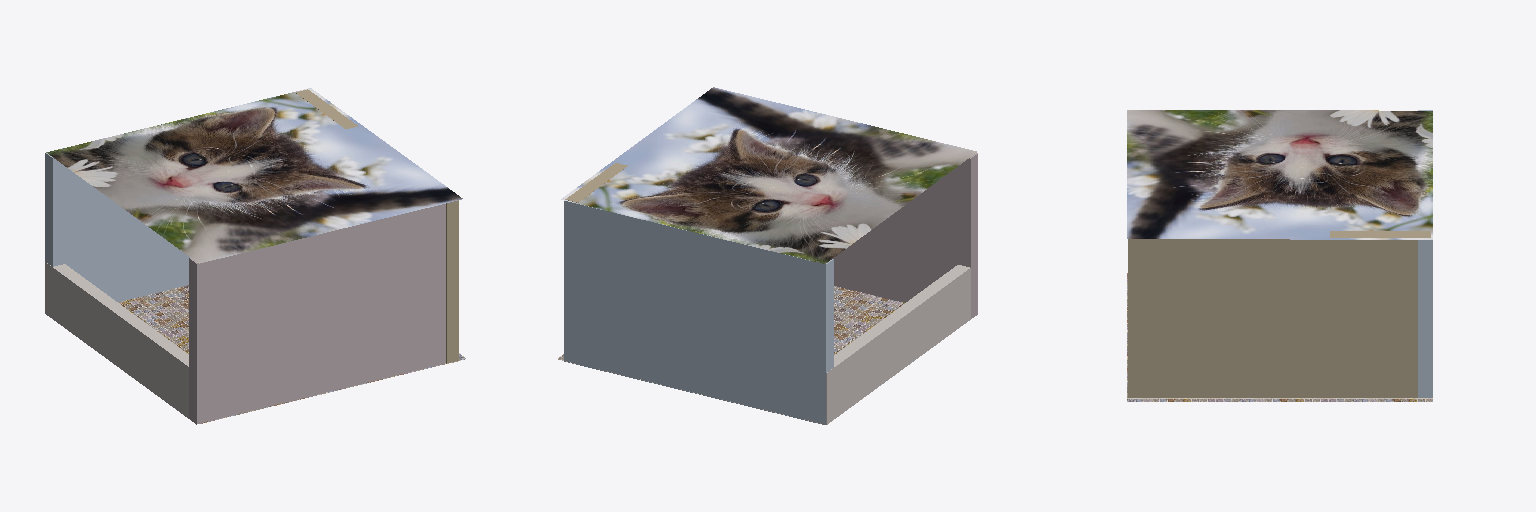
3 views of the same model, side by side, from view 1: azimuth 30°, elevation 25°; view 2: azimuth 150°, elevation 25°; view 3: azimuth 270°, elevation 25° (orthographic).
Parts seen in each view (by area): view 1: Cube.002, Plane.001, Cube.003, Cube, Cube.001, Plane; view 2: Cube.003, Plane.001, Cube.002, Cube, Plane, Cube.001; view 3: Cube.001, Plane.001, Cube.003, Plane.
Part boxes in pixels (x1,y1,x2,y2): Cube.002: (189, 204, 445, 424); Plane.001: (46, 88, 462, 263); Cube.003: (45, 97, 271, 315); Cube: (45, 262, 188, 418); Cube.001: (295, 89, 458, 363); Plane: (118, 285, 465, 423); Cube.003: (564, 201, 833, 424); Plane.001: (561, 87, 976, 263); Cube.002: (833, 153, 977, 318); Cube: (826, 265, 970, 424); Plane: (558, 286, 904, 423); Cube.001: (565, 163, 627, 202); Cube.001: (1128, 231, 1430, 397); Plane.001: (1127, 110, 1432, 239); Cube.003: (1418, 110, 1432, 397); Plane: (1127, 273, 1432, 401).
Bounding box in the file's own units: 16.45 × 9.43 × 16.18.
6 materials, 6 textured.